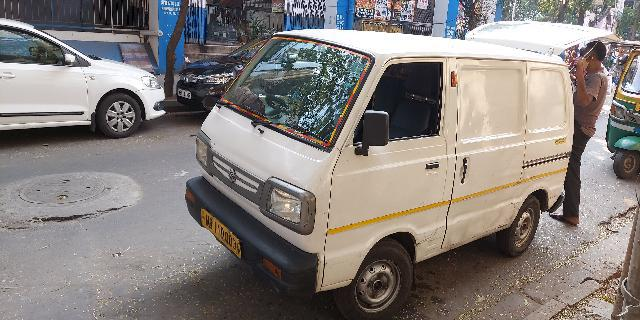Car: (173, 31, 617, 316)
Van: (1, 5, 170, 134)
